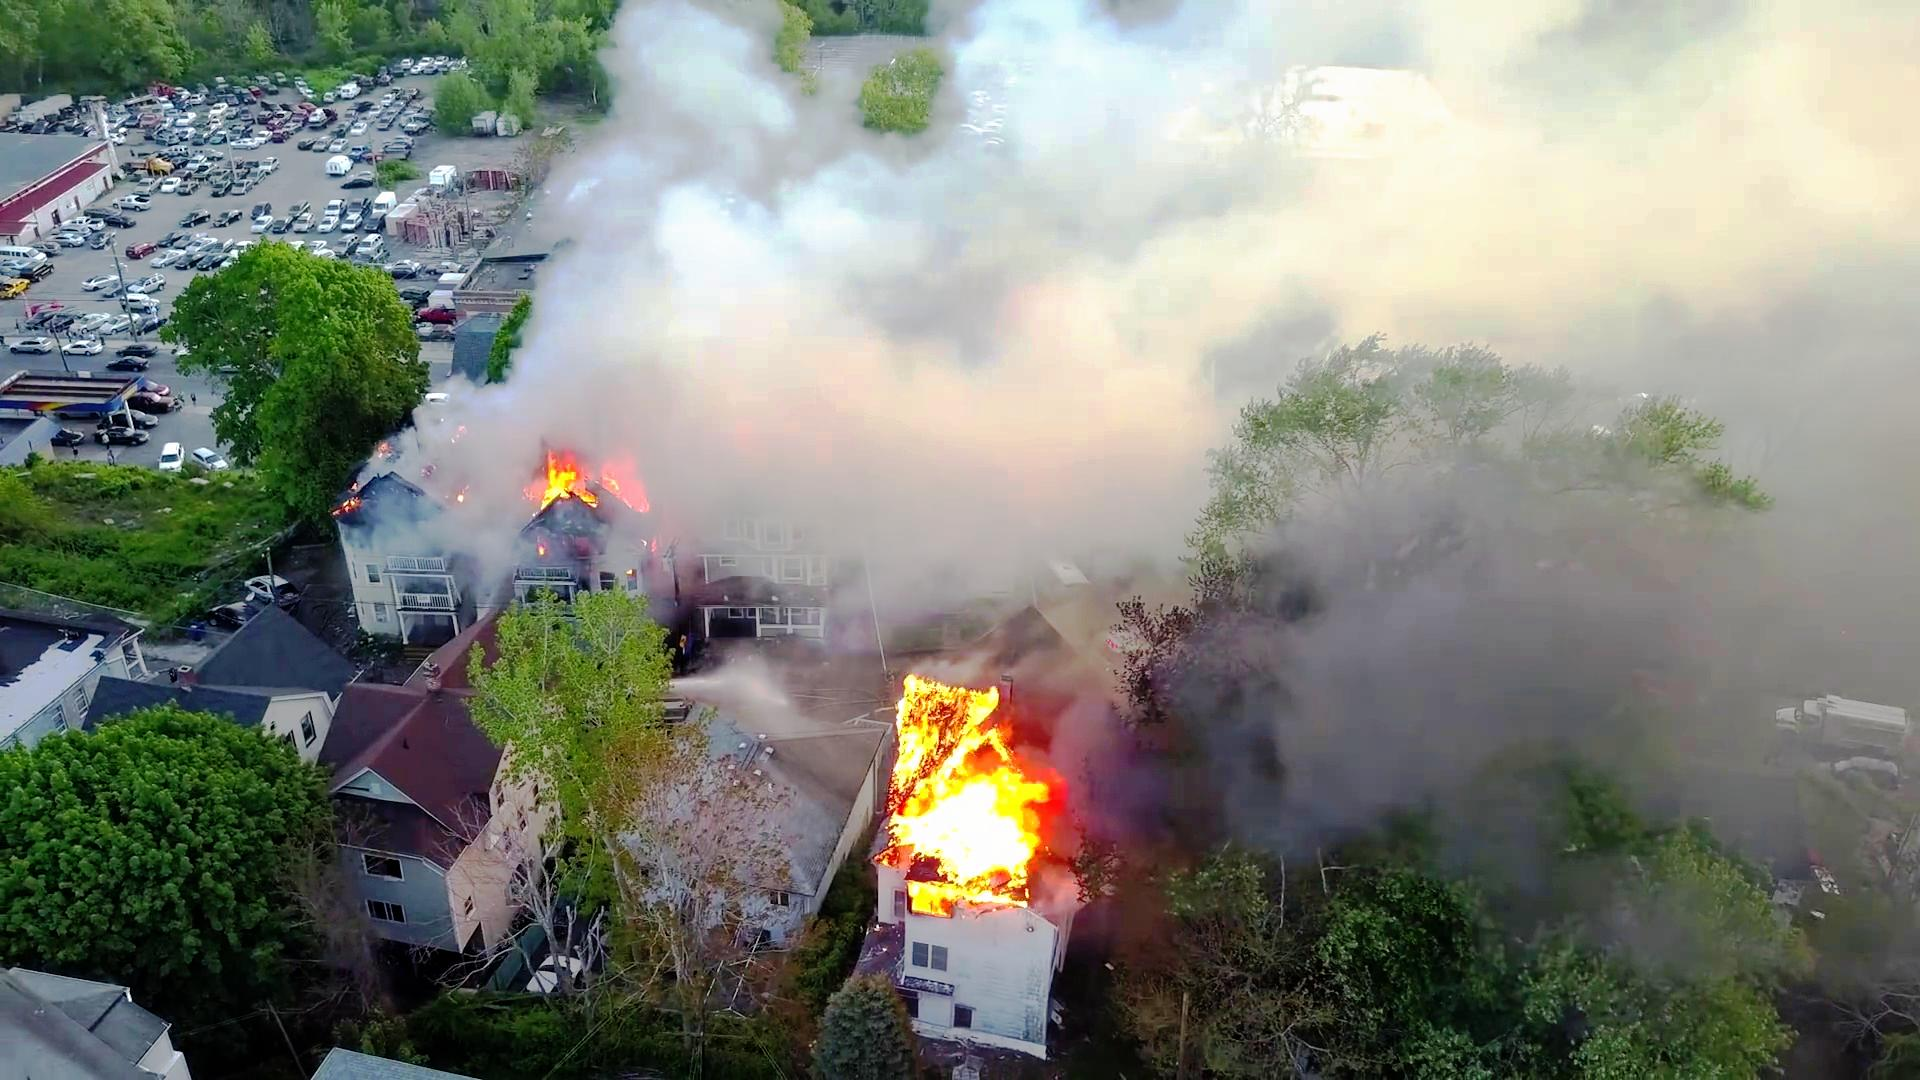fire: (897, 683, 1019, 924)
smoke: (591, 256, 1163, 464)
